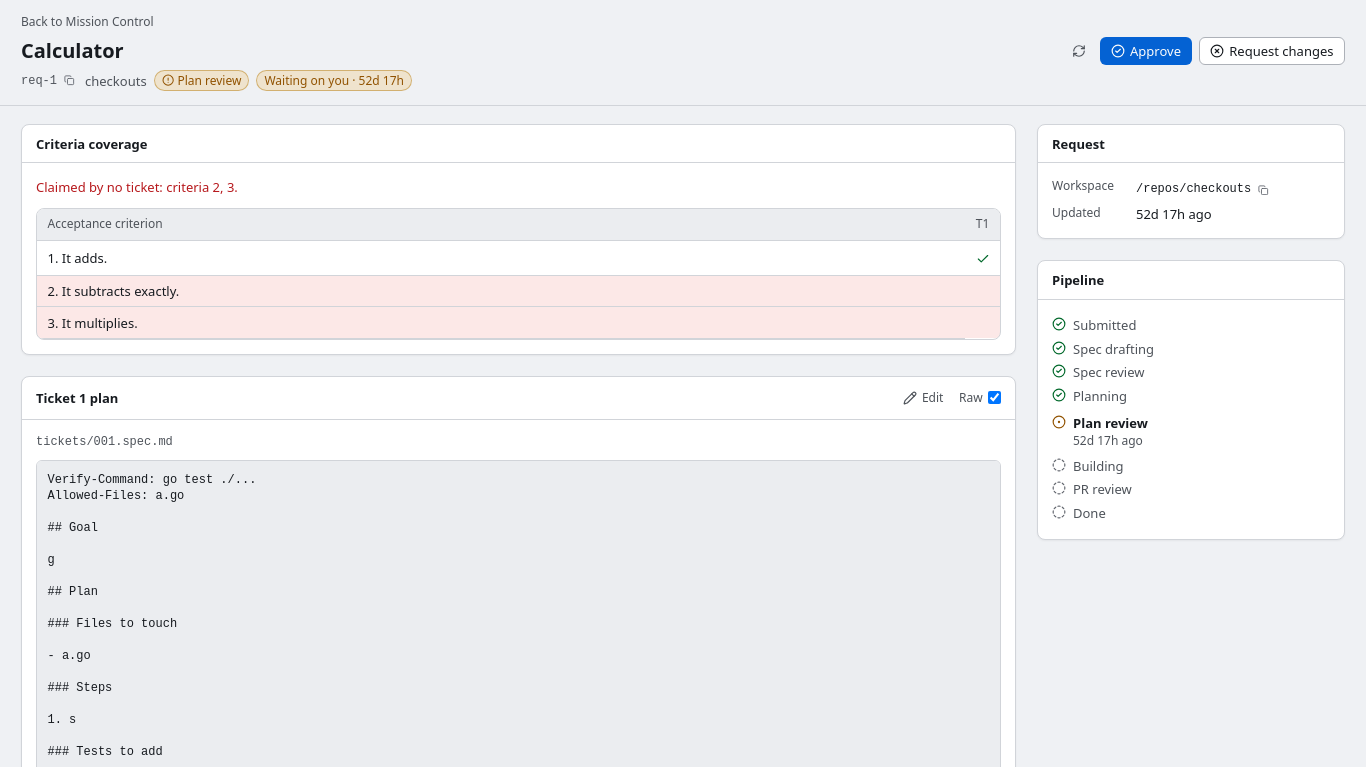
it: a ticket's header lines and covered criteria as fields › typing a header value rewrites its line; a list keeps the comma and space being typed
The width and height of the screenshot is (1366, 767).
Expected: the heading "Calculator" is shown, [21,37,124,64]
Click the button "Edit" at (923, 398), box [894,386,952,410]
(page scrolled)
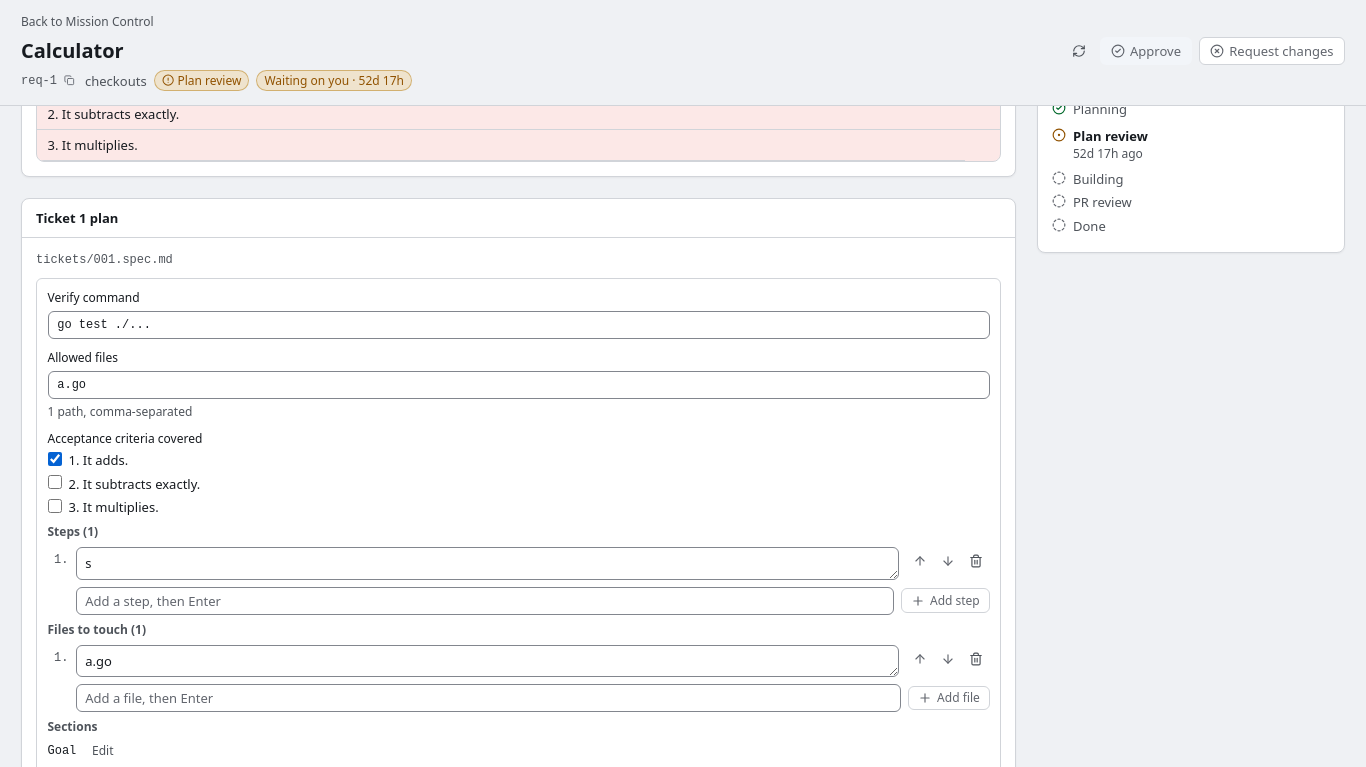
Type ", a_test.go" into the field labelled "Allowed files" at (518, 385), box [48,371,990,399]
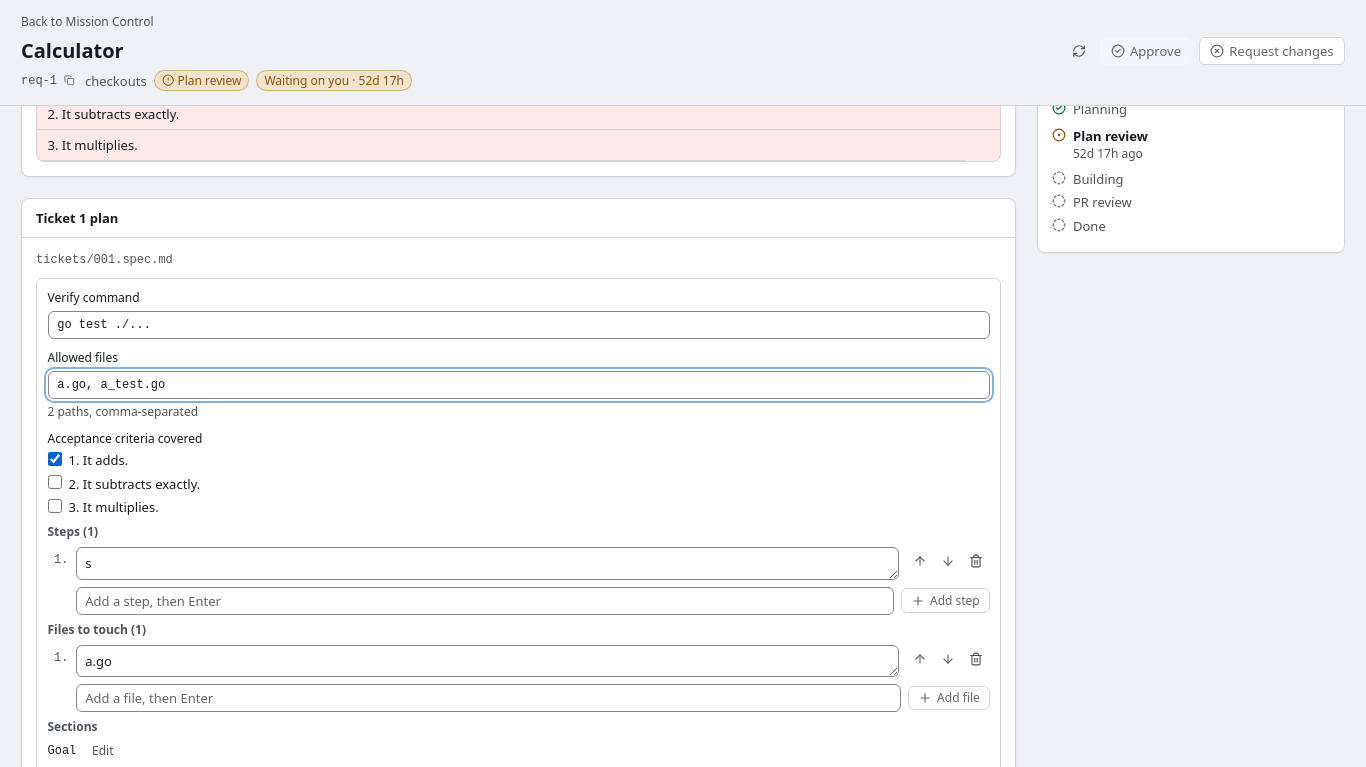
Expected: the field labelled "Allowed files" holds "a.go, a_test.go", [48,371,990,399]
Expected: the text "2 paths, comma-separated" is shown, [48,403,198,420]
